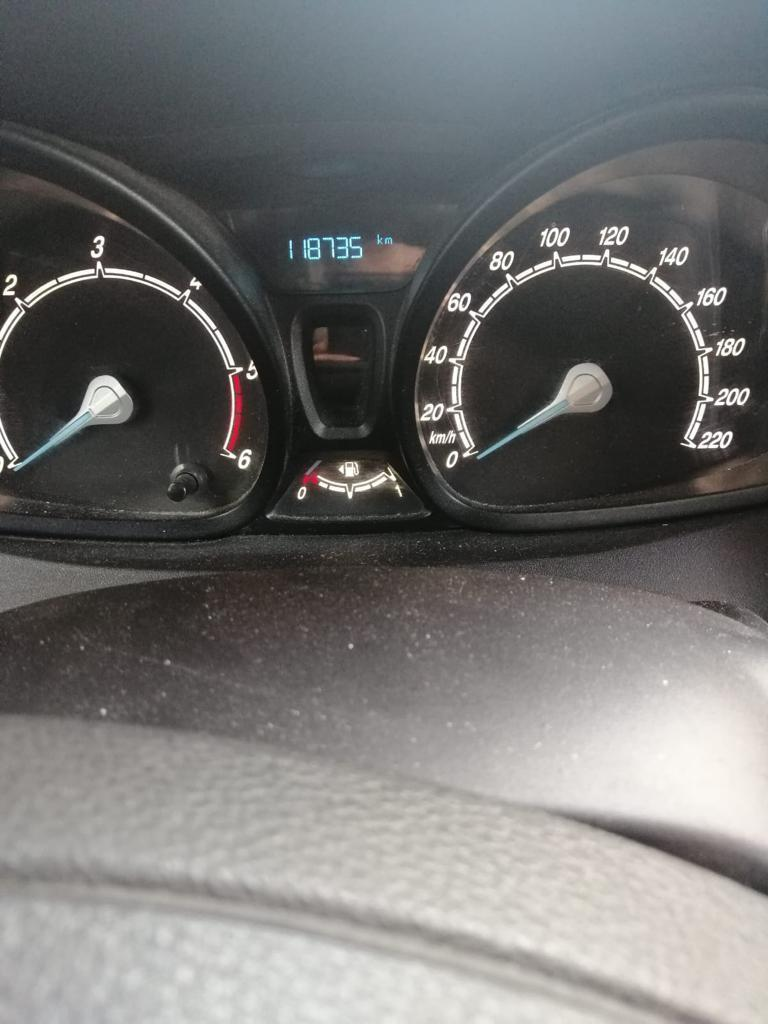1: (288, 239, 293, 259), (302, 238, 306, 258)
3: (335, 236, 348, 259)
5: (349, 235, 362, 258)
7: (321, 236, 334, 258)
8: (306, 237, 320, 260)
X: (376, 233, 383, 244), (384, 236, 392, 244)
odometer: (220, 207, 441, 298)
